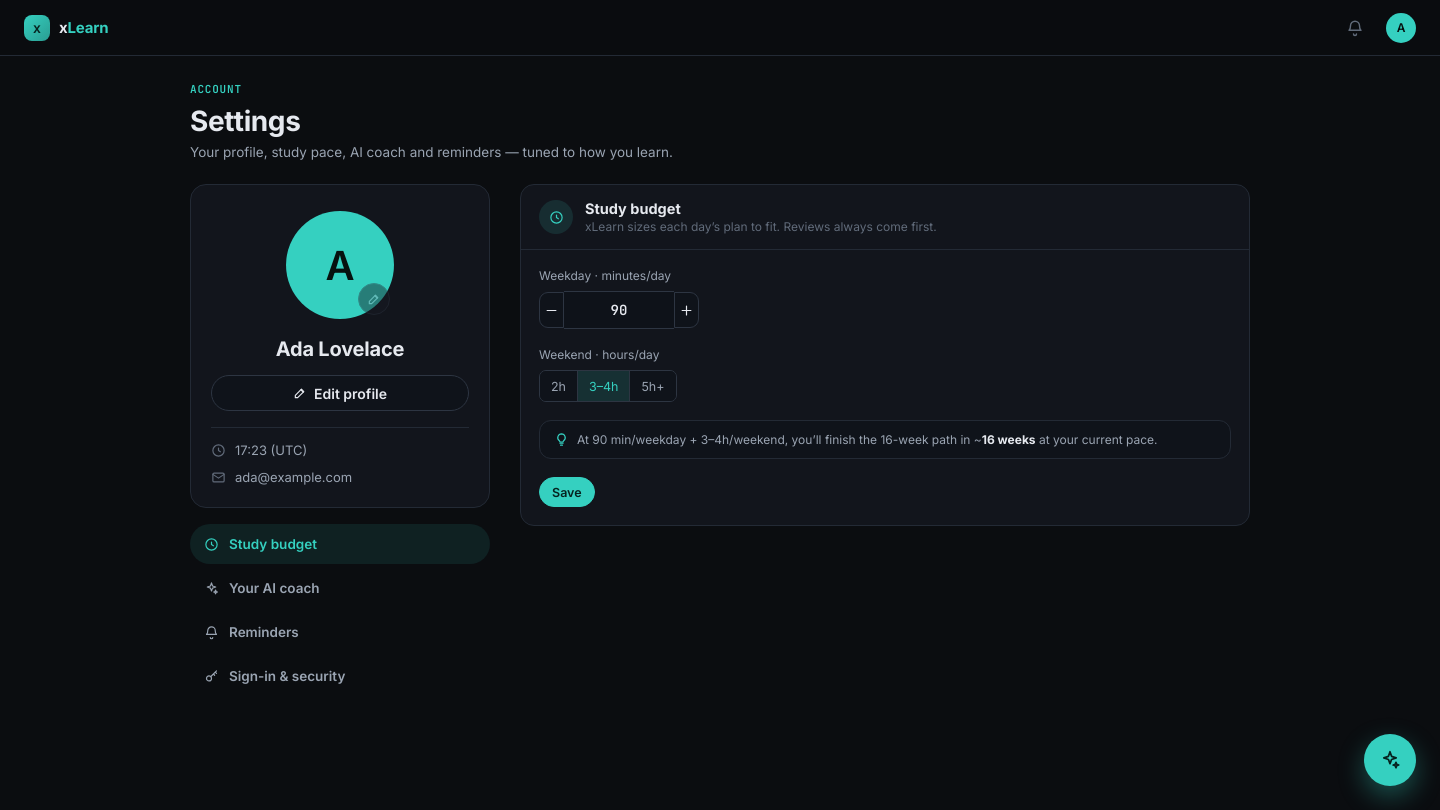
Settings screen › cancels the Edit-profile form without saving
The width and height of the screenshot is (1440, 810).
Click the button "Edit profile".
click(340, 393)  # box [211,375,469,411]
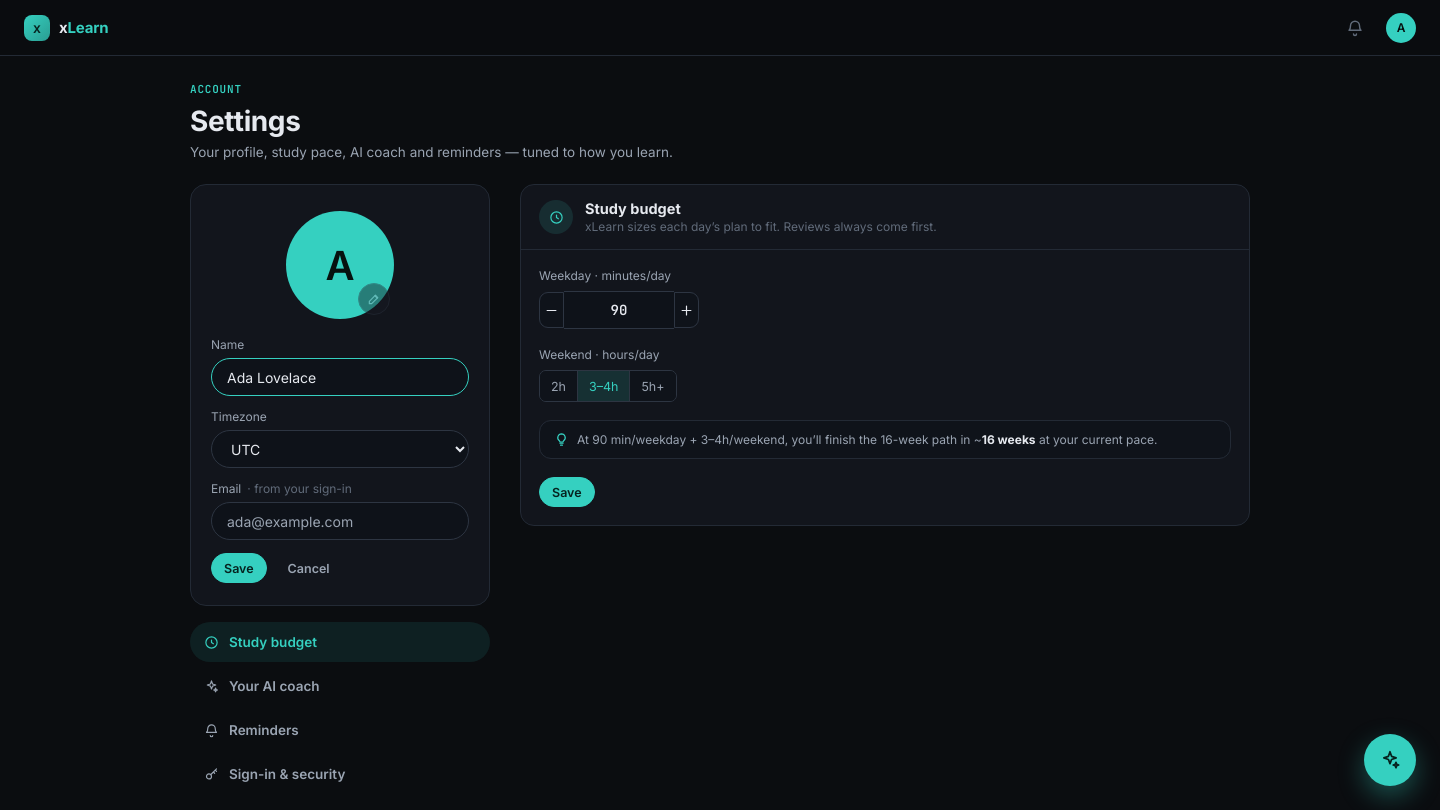
Replace the text in the field showing "Ada Lovelace" with "Discarded" at point(340, 377), box [211,358,469,396]
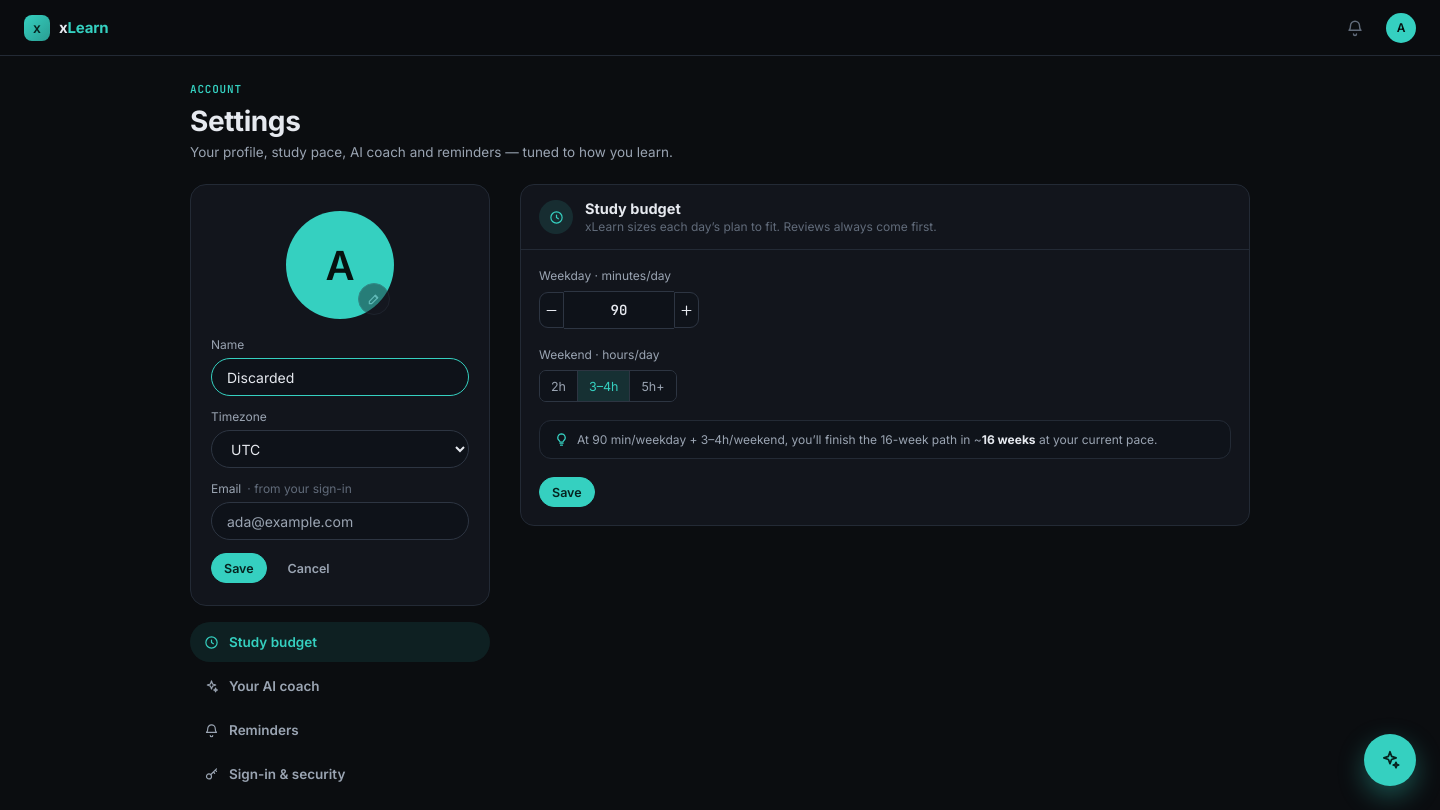
Click the button "Cancel".
click(309, 568)  # box [275,553,343,583]
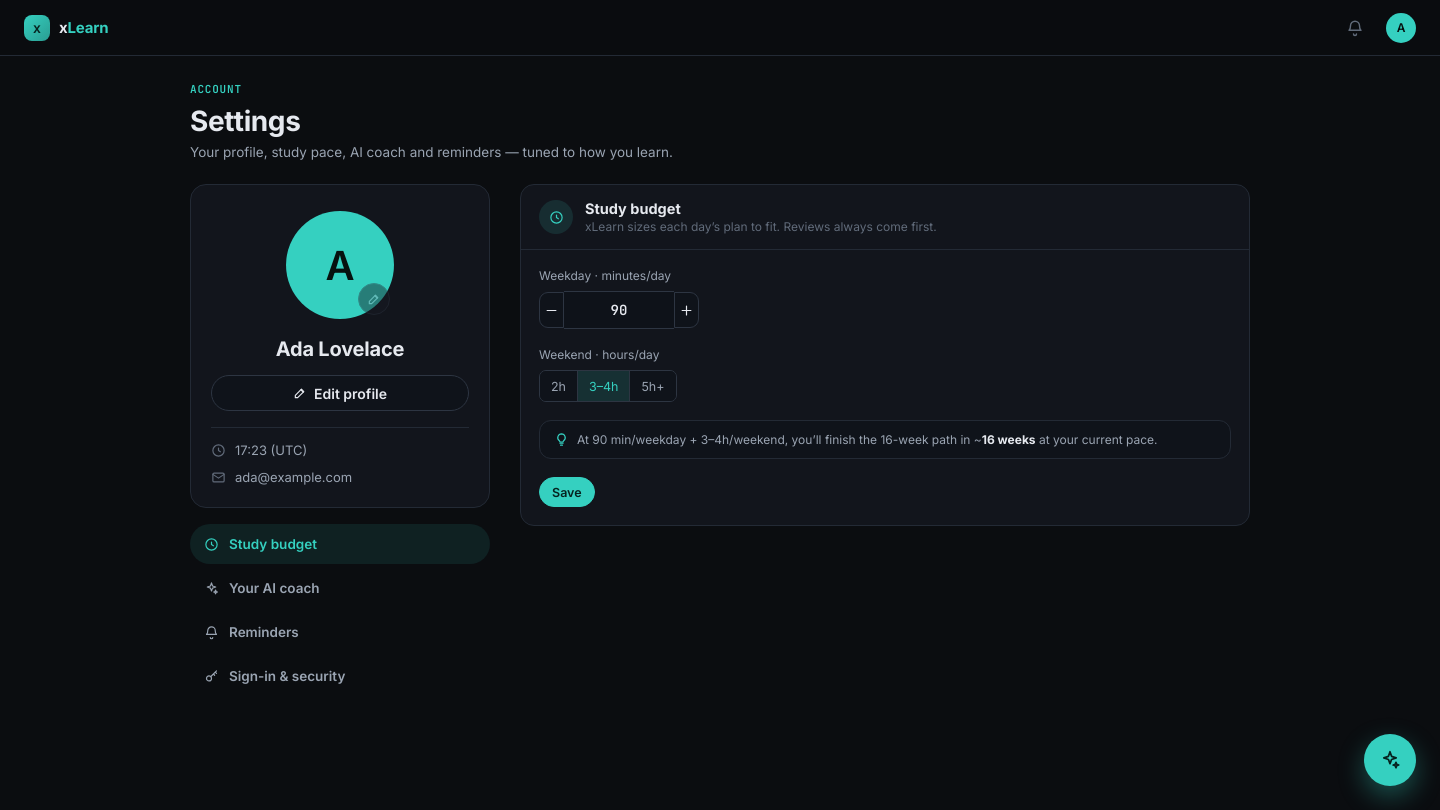
Expected: the text "Ada Lovelace" is shown, [276,337,404,361]
